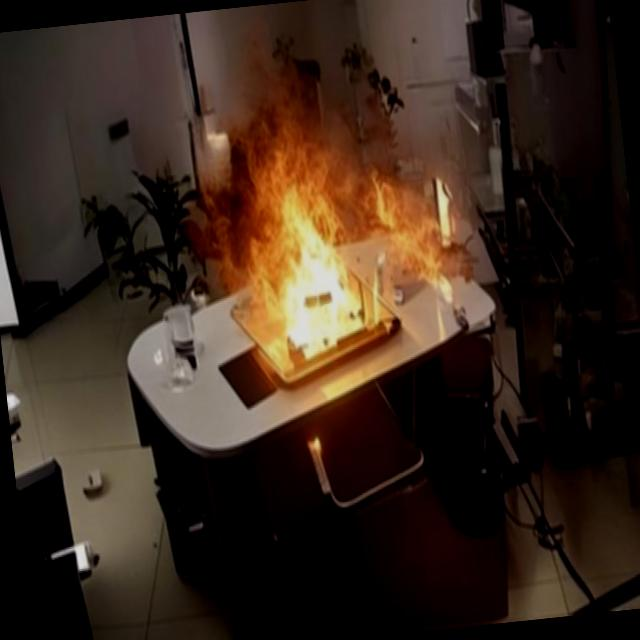fire: (194, 73, 497, 397)
